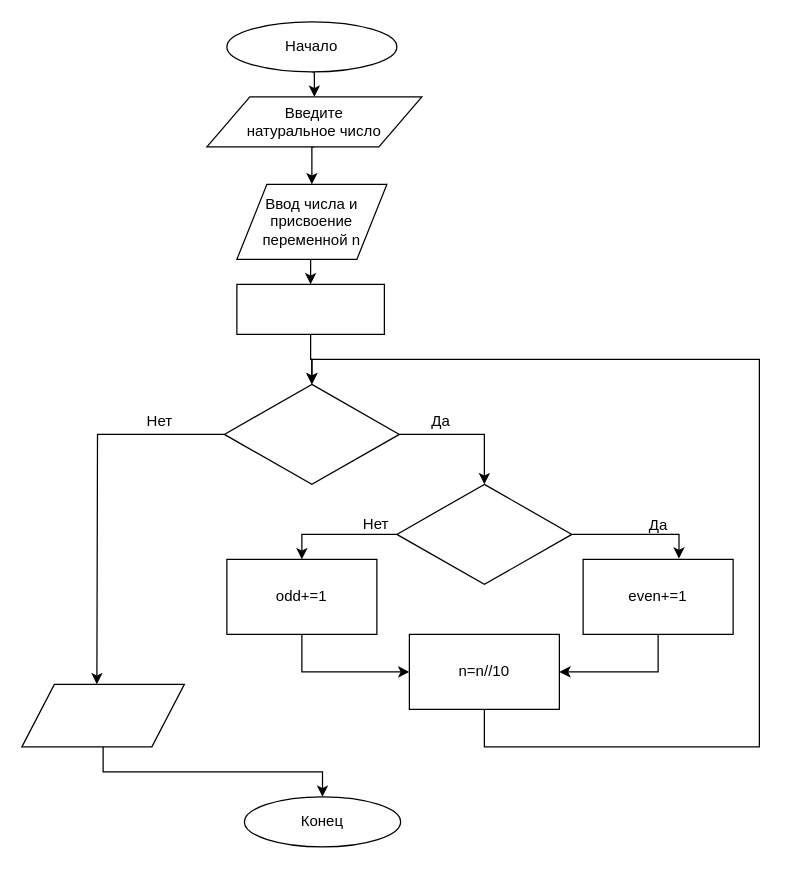
Some shapes in this 791 by 869 pixel diagram are drawn without their labels. Each missing label, with the centre of its shape:
"even=odd=0" belongs at (x=310, y=308).
"n % 2 == 0" belongs at (x=484, y=533).
"n > 0" belongs at (x=311, y=433).
"Вывод even, odd" belongs at (x=102, y=715).
